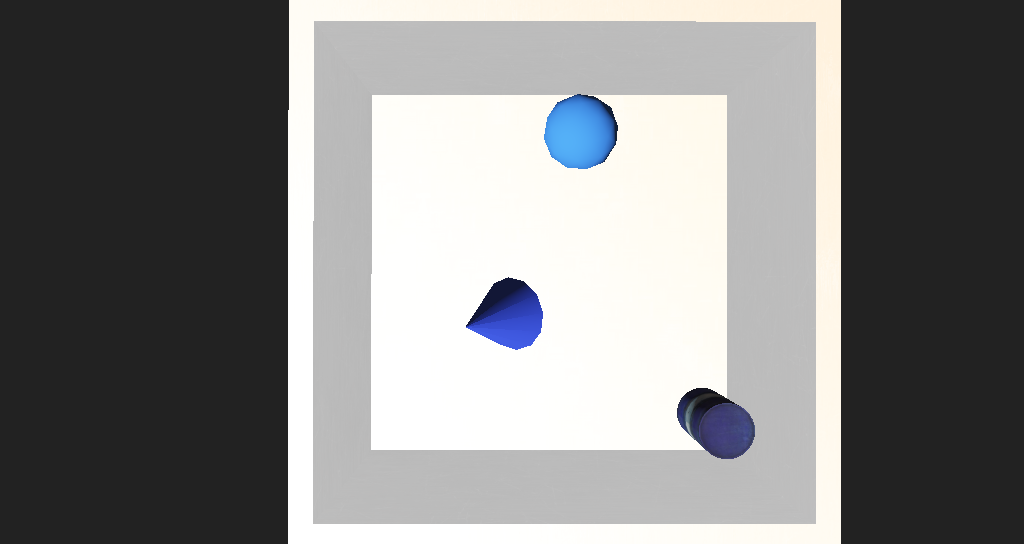cone: (616, 339, 677, 377)
cylinder: (401, 274, 502, 327)
sphere: (502, 165, 563, 208)
